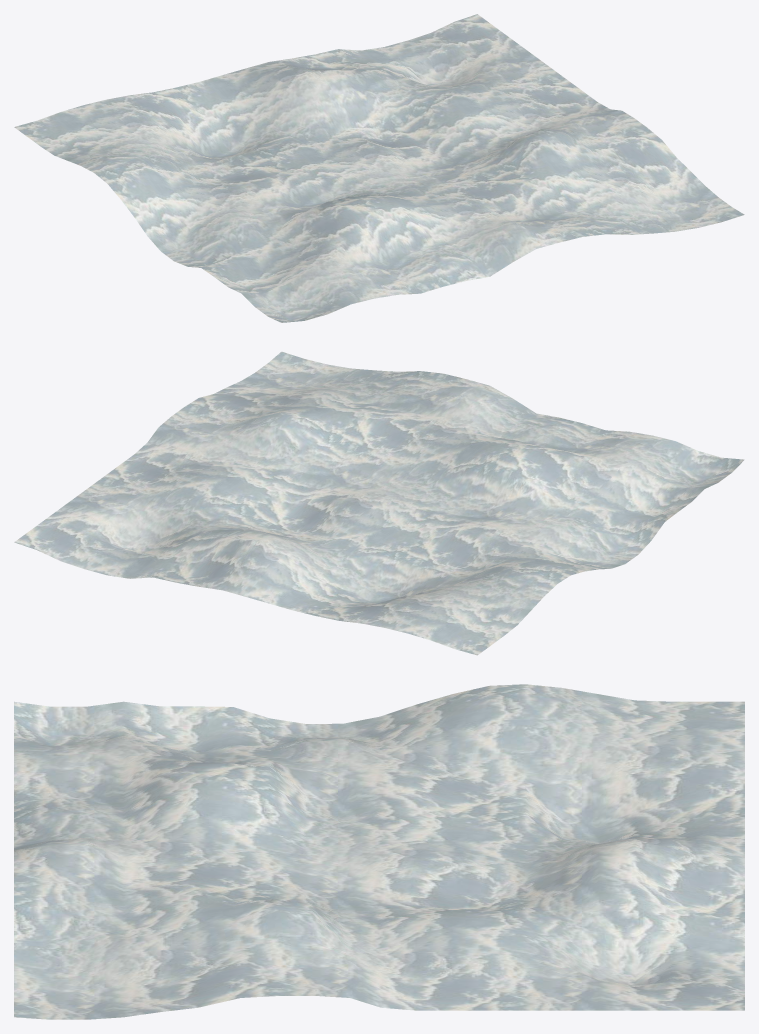
File: Clouds.FBX
3 views of the same model, one above another, from view 1: azimuth 30°, elevation 25°; view 2: azimuth 150°, elevation 25°; view 3: azimuth 270°, elevation 25° (orthographic). The views are drawn at different scales.
Visible parts, largest first — view 1: Skies; view 2: Skies; view 3: Skies.
Part boxes in pixels (<box>): Skies: <box>14,14,744,322</box>; Skies: <box>14,351,744,655</box>; Skies: <box>14,684,744,1019</box>.
Bounding box in the file's own units: 1001 × 105 × 1000.
Materials: 1 (1 with a texture image).
